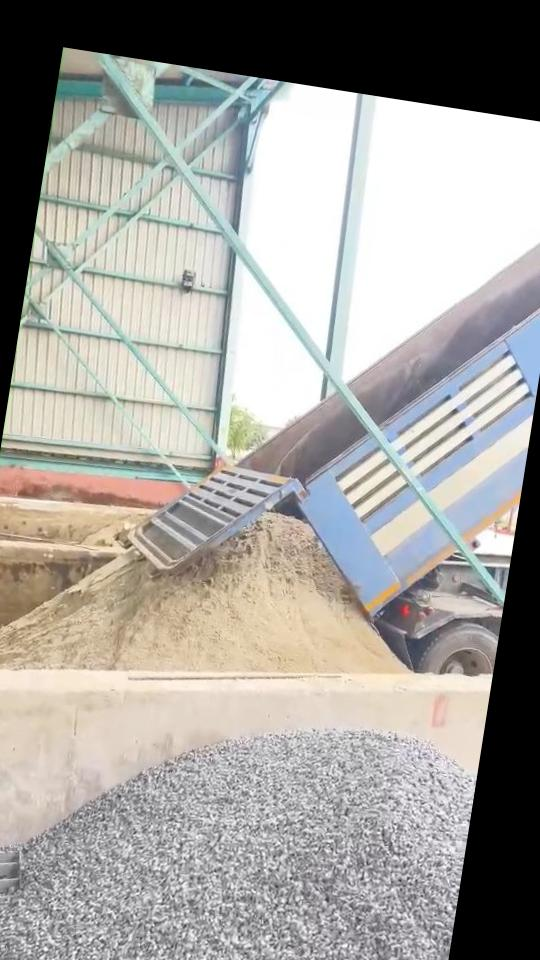gravel: (0, 730, 474, 960)
sand: (0, 515, 404, 673), (82, 514, 148, 547)
